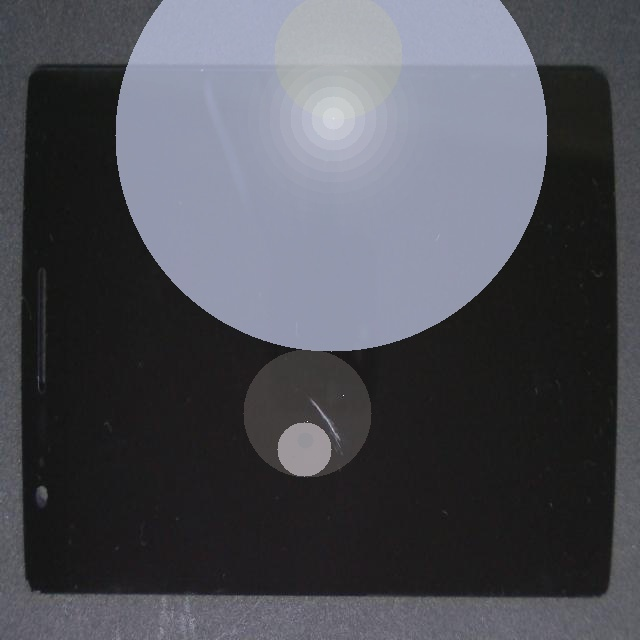scratch: (115, 177, 463, 640)
